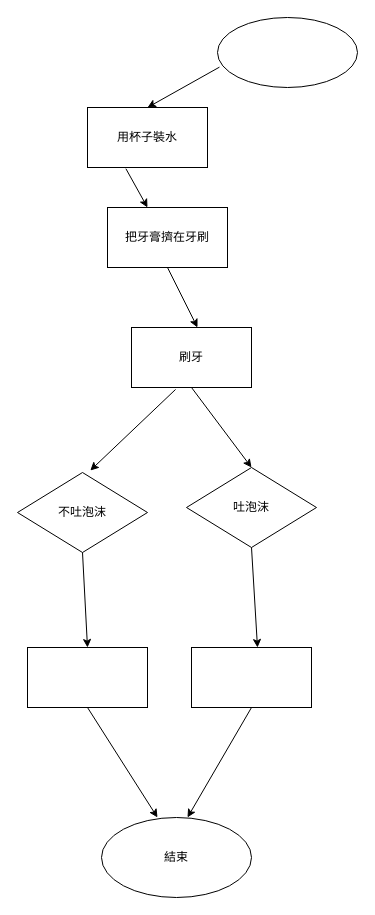
Some shapes in this 375 by 915 pixel diagram are drawn without their labels. The centre of each missing label's shape, as x and y in pixels:
漱口: [251,677]
直接漱口: [87,677]
開始: [287,52]
